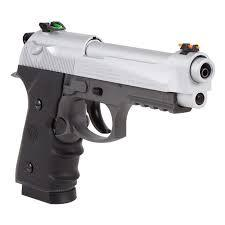weapon: (8, 17, 217, 207)
